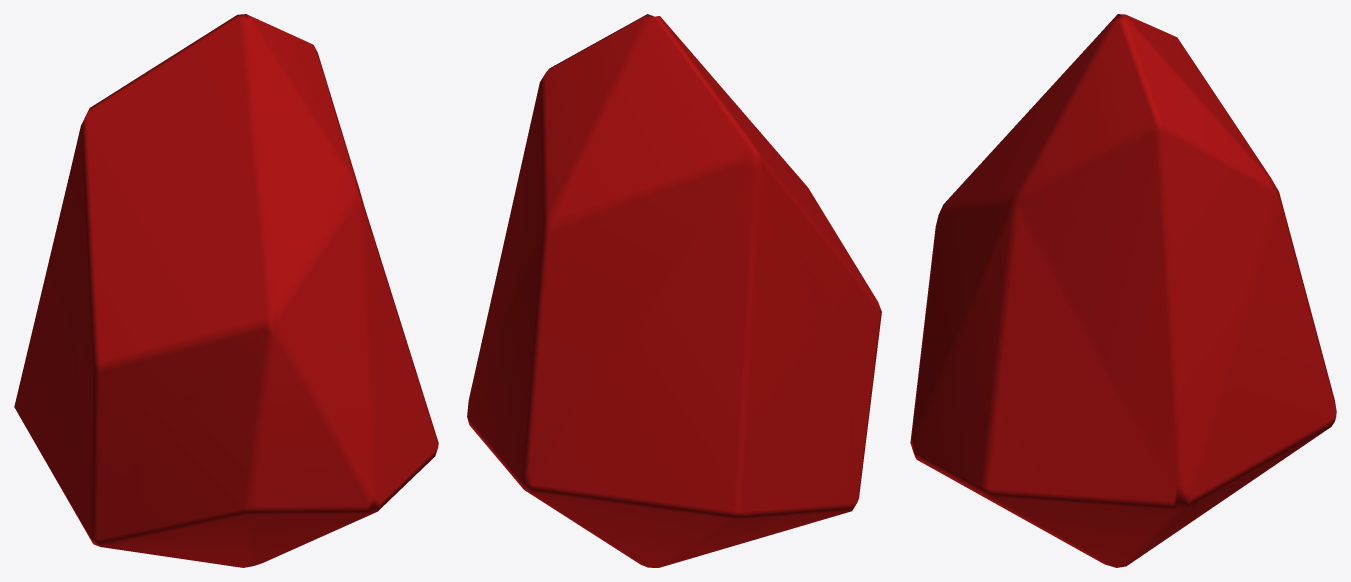
Rendered from Alchemy Crystal 2.fbx.
The picture shows the model from 3 angles, left to right: view 1: azimuth 30°, elevation 25°; view 2: azimuth 150°, elevation 25°; view 3: azimuth 270°, elevation 25°; orthographic projection.
Parts seen in each view (by area): view 1: Alchemy_Crystal_2; view 2: Alchemy_Crystal_2; view 3: Alchemy_Crystal_2.
Part boxes in pixels (x1,y1,x2,y2): Alchemy_Crystal_2: [14, 14, 438, 567]; Alchemy_Crystal_2: [467, 14, 881, 567]; Alchemy_Crystal_2: [910, 14, 1336, 567].
Size of the model in its own units: 4.12 by 6.31 by 4.45.
Materials: 1 (1 with a texture image).
